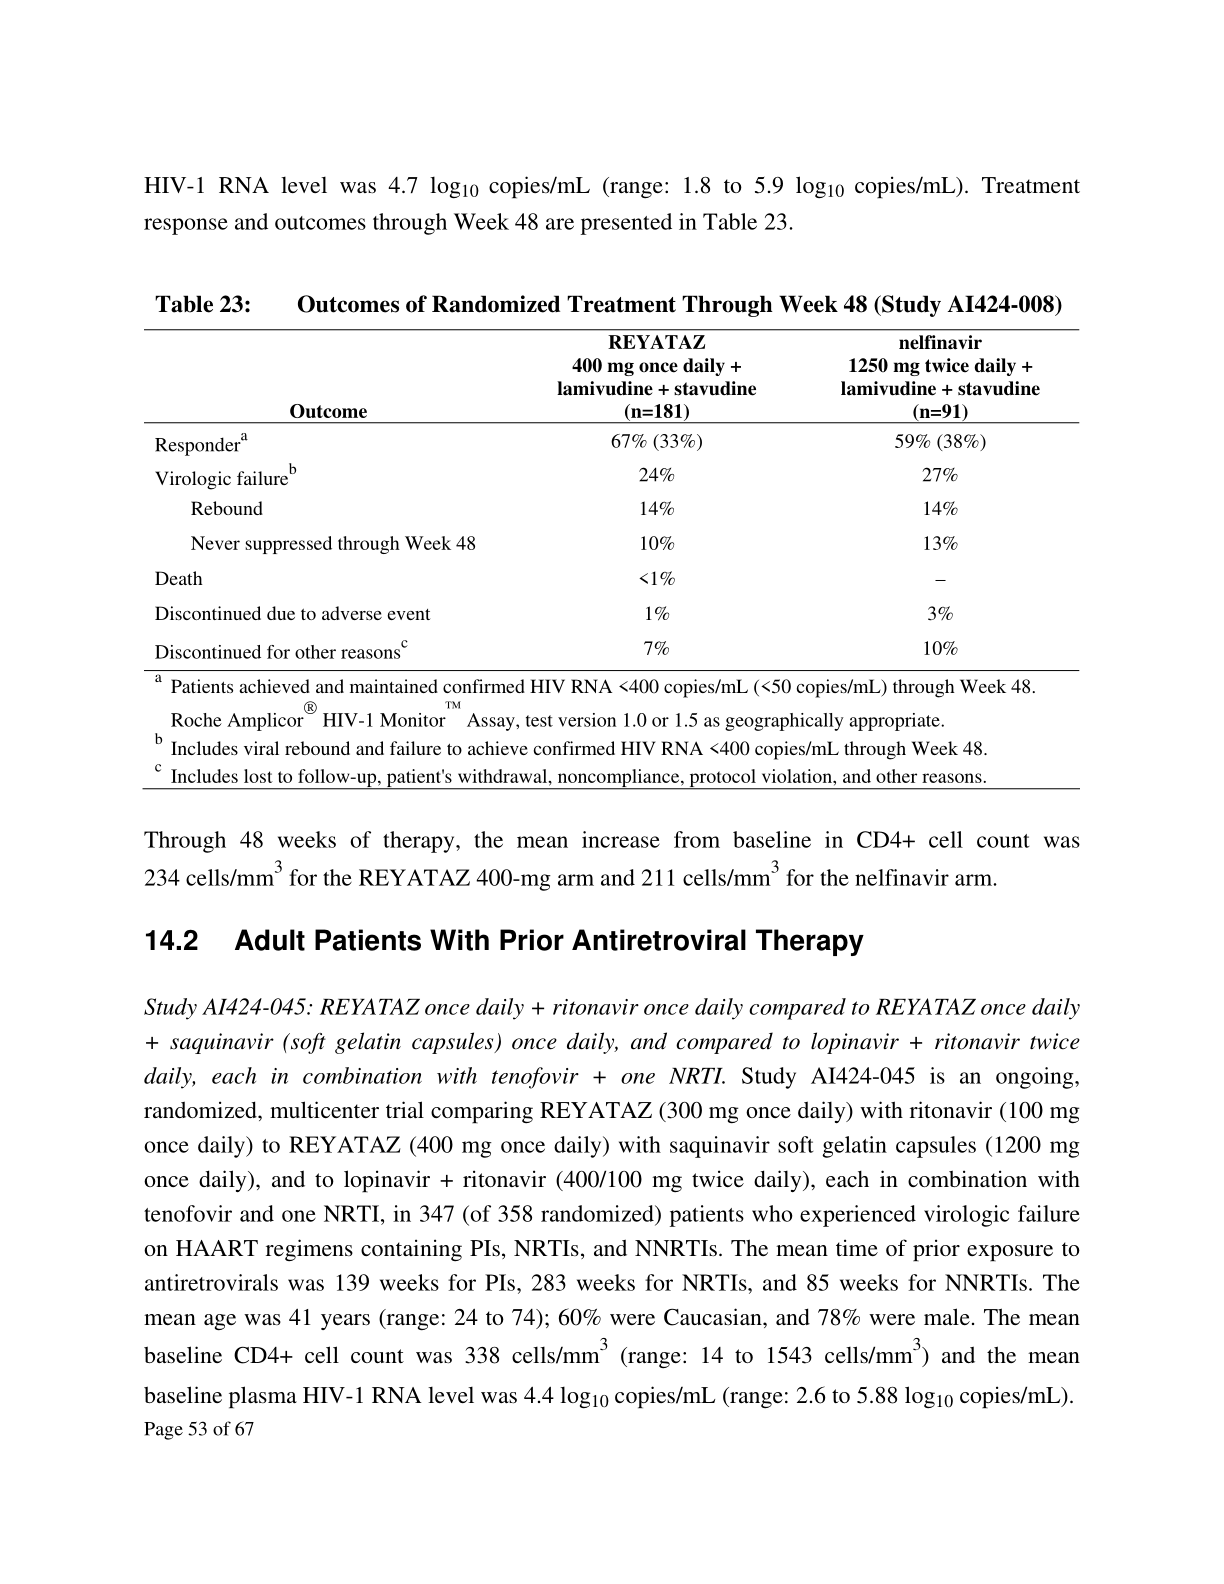partial_lined: (144, 328, 1083, 672)
